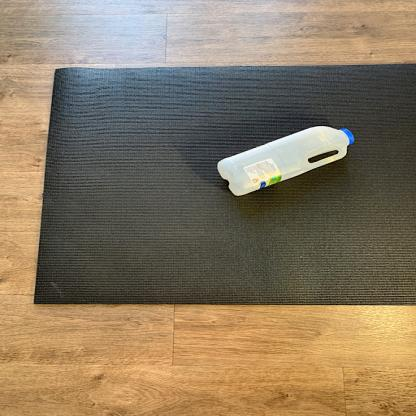trash: (213, 124, 359, 198)
